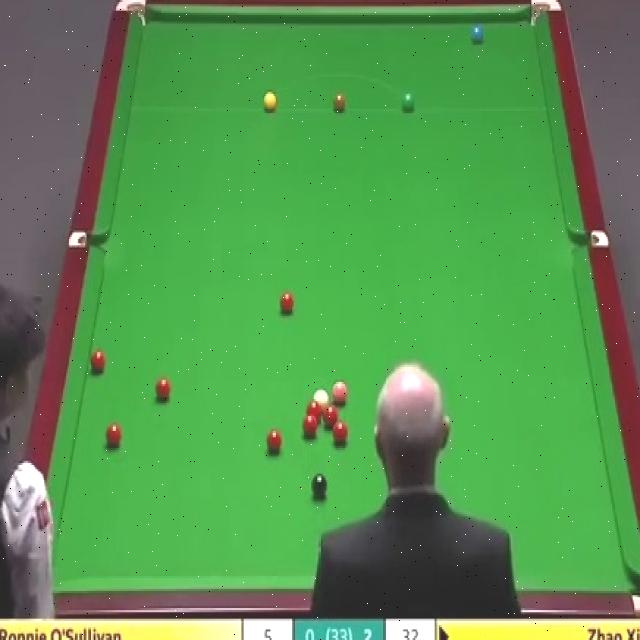black-ball: (310, 473, 328, 501)
blue-ball: (469, 20, 486, 46)
brown-ball: (332, 92, 347, 114)
green-ball: (401, 92, 416, 115)
pink-ball: (329, 381, 348, 406)
red-ball: (105, 422, 123, 451), (154, 378, 173, 403), (266, 428, 282, 456), (279, 290, 296, 316), (302, 414, 318, 440), (89, 349, 105, 375), (305, 400, 322, 422), (333, 420, 348, 444), (326, 404, 342, 424)
white-ball: (313, 387, 332, 408)
yellow-ball: (263, 91, 278, 113)
